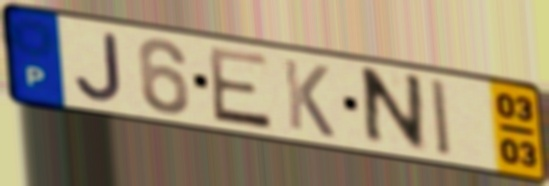6: (134, 36, 191, 116)
E: (204, 43, 276, 132)
I: (427, 75, 456, 161)
J: (71, 30, 126, 105)
K: (280, 56, 338, 142)
N: (361, 64, 429, 156)
